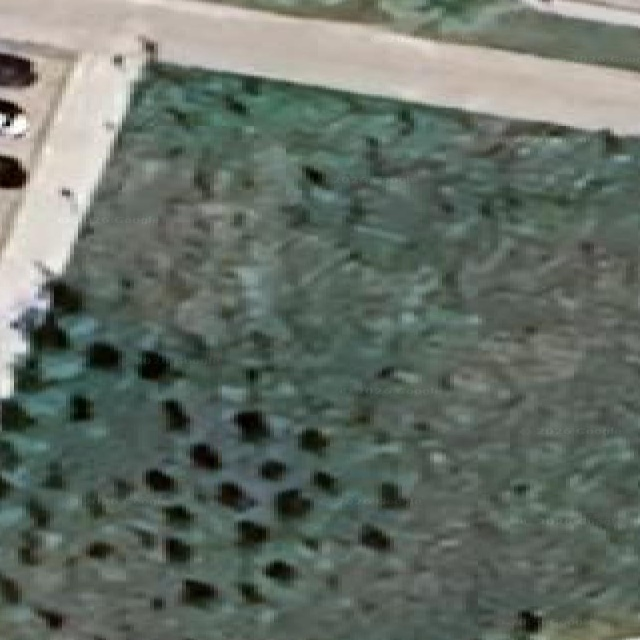car: (0, 51, 35, 87), (0, 99, 27, 136), (0, 155, 27, 188)
